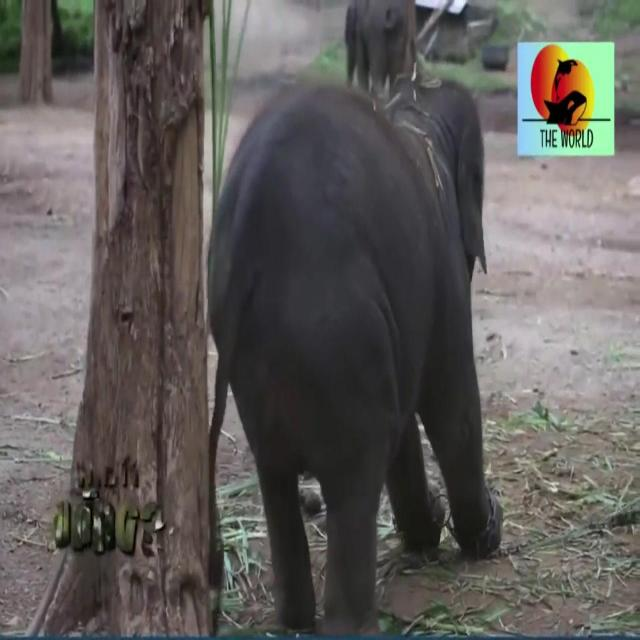Elephant: (218, 44, 507, 606), (340, 5, 411, 84)
